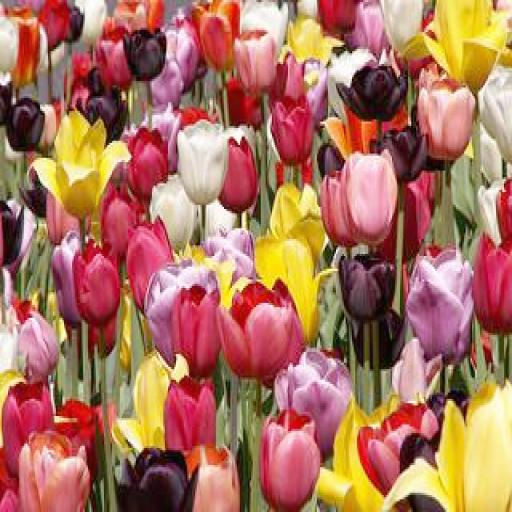tulip: (29, 109, 131, 220), (441, 379, 512, 507), (218, 277, 298, 386), (410, 250, 478, 367), (260, 411, 323, 512), (17, 426, 89, 512), (414, 79, 477, 175), (344, 149, 402, 235), (122, 220, 176, 309), (164, 367, 218, 454), (173, 286, 222, 373), (179, 120, 229, 202), (340, 247, 398, 316), (72, 248, 122, 324), (16, 309, 64, 380), (267, 100, 317, 162), (130, 126, 168, 198), (236, 28, 278, 92), (123, 28, 168, 81)
